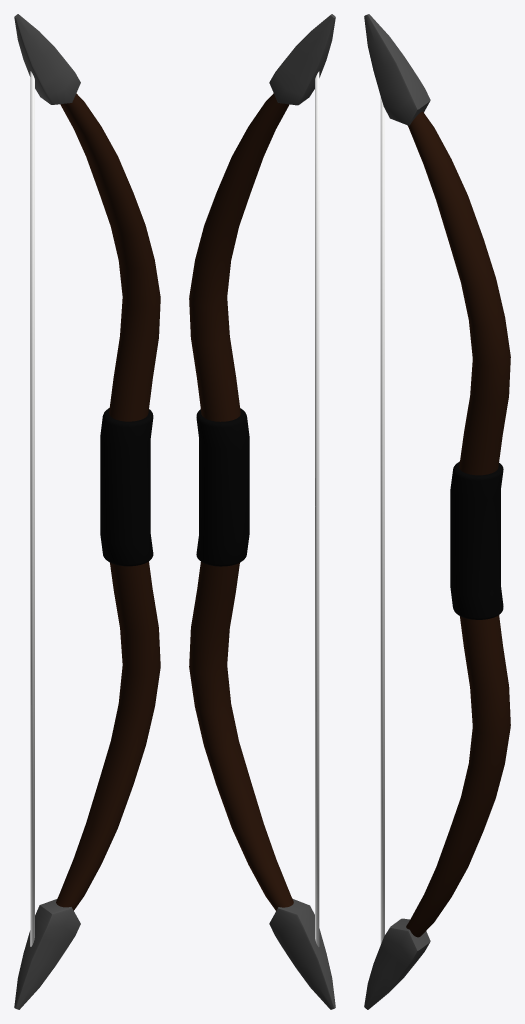
The model's file is Bow_02.obj.
3 views of the same model, side by side, from view 1: azimuth 30°, elevation 25°; view 2: azimuth 150°, elevation 25°; view 3: azimuth 330°, elevation 25° (orthographic).
Parts seen in each view (by area): view 1: Bow_02_Cylinder.003, String_Bow02_Cube.003; view 2: Bow_02_Cylinder.003, String_Bow02_Cube.003; view 3: Bow_02_Cylinder.003, String_Bow02_Cube.003.
Part boxes in pixels (x1=…): Bow_02_Cylinder.003: x1=14, y1=14, x2=160, y2=1009; String_Bow02_Cube.003: x1=30, y1=71, x2=34, y2=946; Bow_02_Cylinder.003: x1=189, y1=14, x2=335, y2=1009; String_Bow02_Cube.003: x1=315, y1=71, x2=319, y2=946; Bow_02_Cylinder.003: x1=364, y1=14, x2=510, y2=1009; String_Bow02_Cube.003: x1=380, y1=97, x2=384, y2=944.
Size of the model in its own units: 2.29 by 15.18 by 0.7013.
